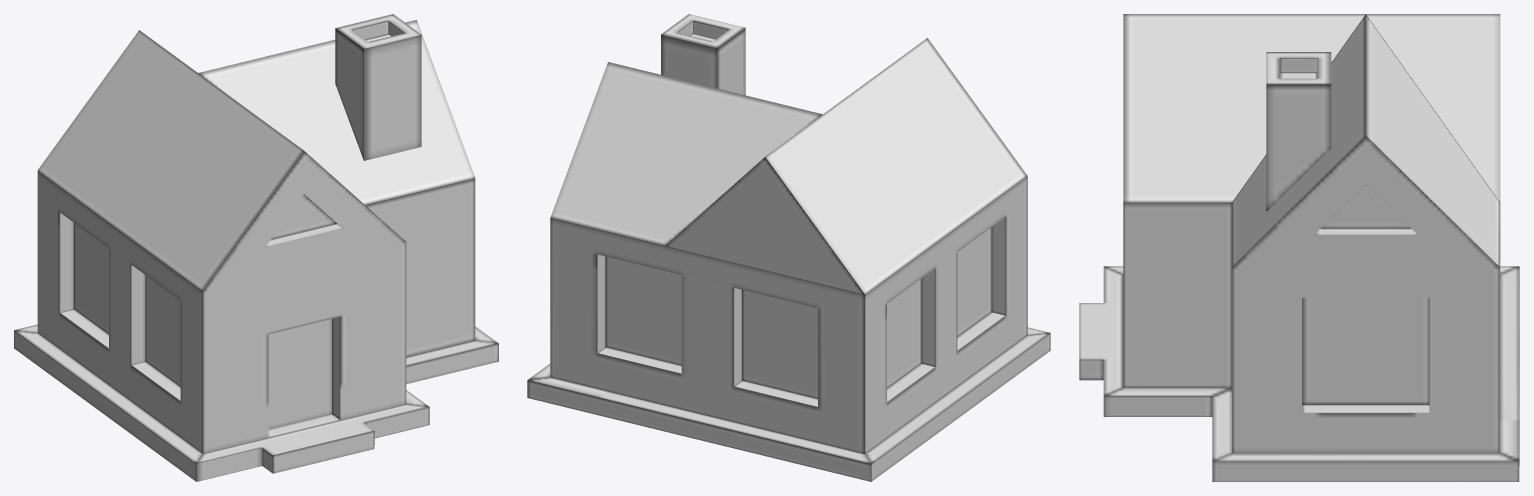
Rendered from House-02.fbx.
The picture shows the model from 3 angles, left to right: view 1: azimuth 30°, elevation 25°; view 2: azimuth 150°, elevation 25°; view 3: azimuth 270°, elevation 25°; orthographic projection. The views are drawn at different scales.
Visible parts, largest first — view 1: House_02; view 2: House_02; view 3: House_02.
Boxes of the visible parts, x1,y1,x2,y2 form: House_02: (14,14,498,481); House_02: (527,14,1050,481); House_02: (1079,14,1519,481).
Bounding box in the file's own units: 1.59 × 1.4 × 1.52.
